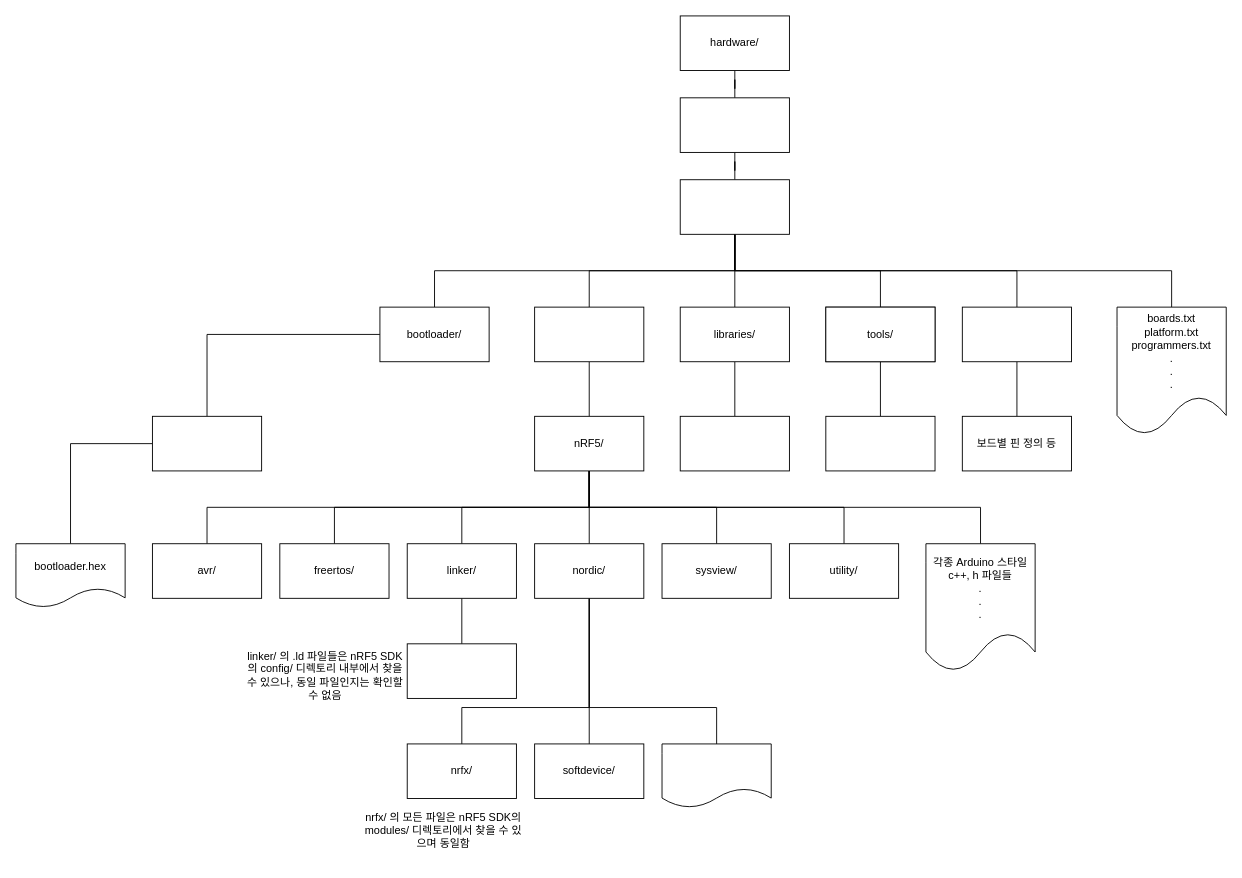
This 1242x878 diagram has some shape labels left out. The centre of each missing label's shape, as x and y in pixels:
"Adafruit 자체 유틸리티" belongs at (x=716, y=775).
"cores/" belongs at (x=589, y=334).
"nrf52" belongs at (x=734, y=124).
"nrf52832_s132_v6.ld (보드별 .ld 파일들)" belongs at (x=461, y=670).
"variants/" belongs at (x=1016, y=334).
"{chip/board name}" belongs at (x=207, y=443).
"{version}" belongs at (x=734, y=206).
"외부 라이브러리" belongs at (x=734, y=443).
"커스텀툴 (주로 업로드용)" belongs at (x=880, y=443).
